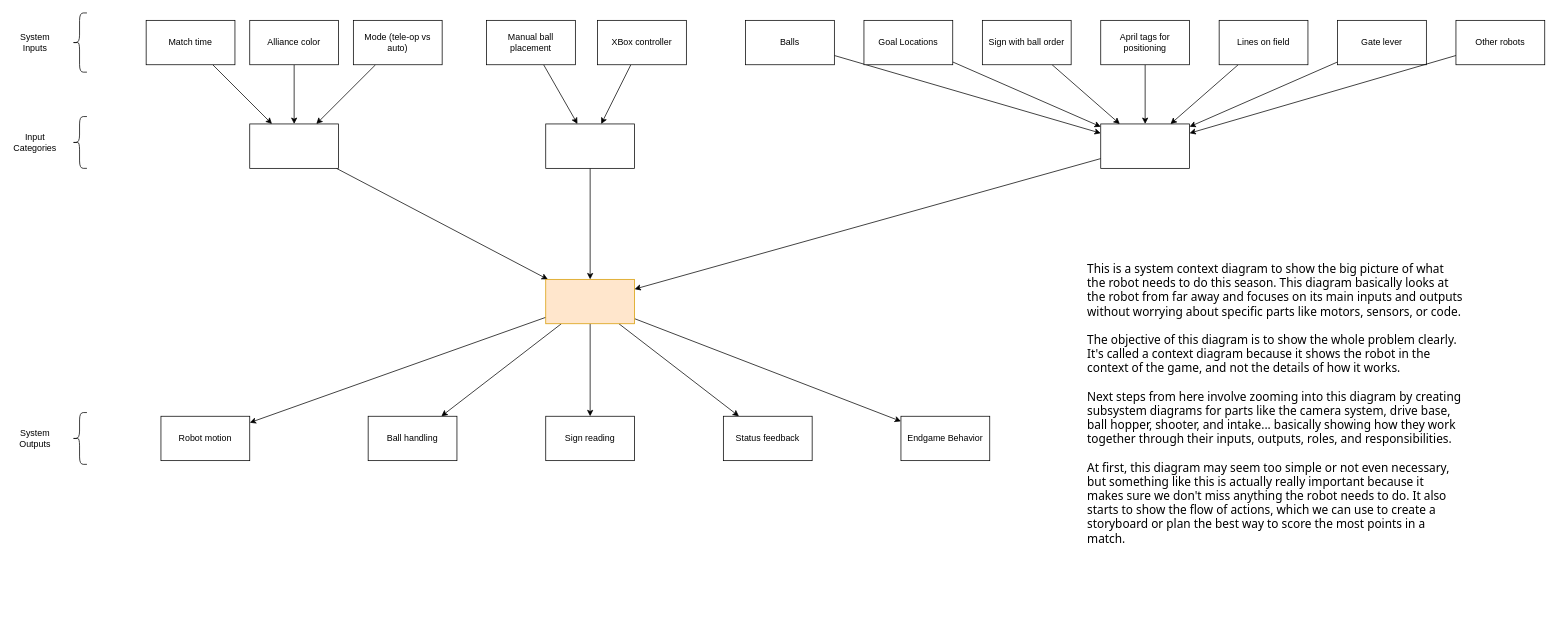
Image size: 1558x640. Some labels were removed from this diagram. The box of each missing label's shape, as (x1, y1, x2, y2) in pixels:
Field Environment: (1100, 123, 1190, 168)
Game state: (249, 123, 339, 168)
Robot: (545, 279, 635, 324)
User inputs: (545, 123, 635, 168)
